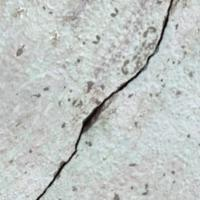crack: (30, 0, 183, 199)
